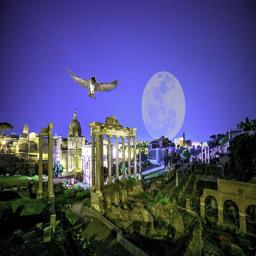Swallow: (66, 68, 119, 100)
